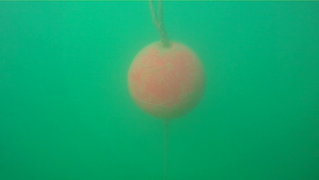buoy: (128, 40, 206, 120)
